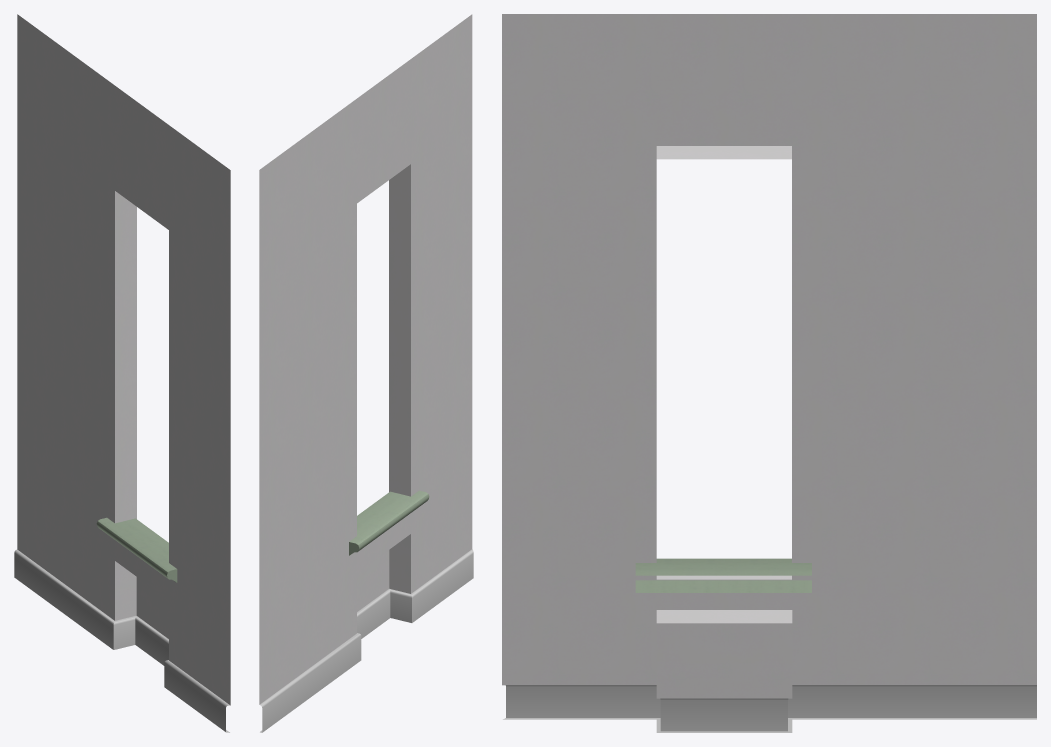
File: SM_Wall_Window_3.fbx
The picture shows the model from 3 angles, left to right: view 1: azimuth 30°, elevation 25°; view 2: azimuth 150°, elevation 25°; view 3: azimuth 270°, elevation 25°; orthographic projection. The views are drawn at different scales.
Visible parts, largest first — view 1: SM_Wall_Window_3; view 2: SM_Wall_Window_3; view 3: SM_Wall_Window_3.
Part boxes in pixels (bbox=[...]): SM_Wall_Window_3: bbox=[14, 14, 230, 732]; SM_Wall_Window_3: bbox=[259, 14, 473, 732]; SM_Wall_Window_3: bbox=[502, 14, 1036, 732].
Size of the model in its own units: 28.5 by 326 by 474.
